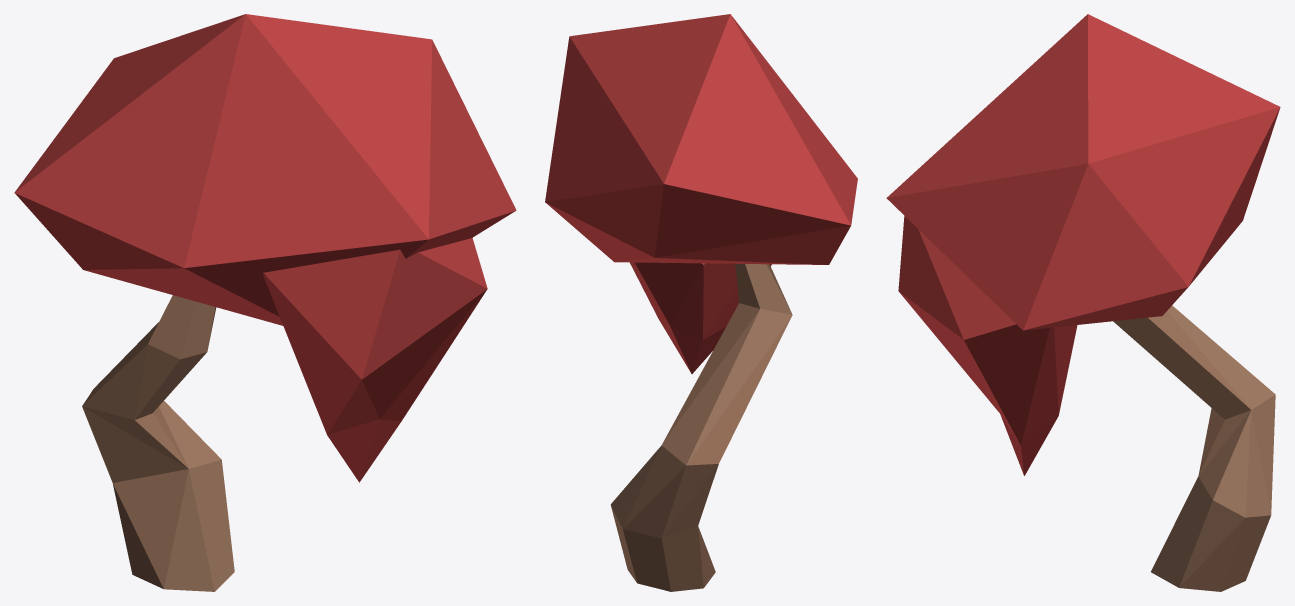
The model's file is TreeAutumn3_Alt3.fbx.
3 views of the same model, side by side, from view 1: azimuth 30°, elevation 25°; view 2: azimuth 150°, elevation 25°; view 3: azimuth 270°, elevation 25° (orthographic). The views are drawn at different scales.
Parts seen in each view (by area): view 1: TreeAutumn3_Alt3; view 2: TreeAutumn3_Alt3; view 3: TreeAutumn3_Alt3.
Part boxes in pixels (x1=…): TreeAutumn3_Alt3: x1=14, y1=14, x2=516, y2=591; TreeAutumn3_Alt3: x1=545, y1=14, x2=857, y2=591; TreeAutumn3_Alt3: x1=886, y1=14, x2=1280, y2=591.
Size of the model in its own units: 1.23 by 1.68 by 1.08.
